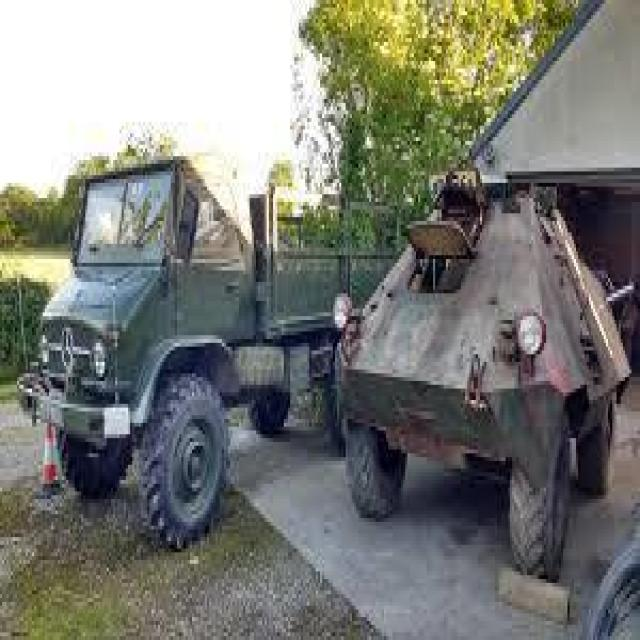Tanks: (358, 132, 634, 577)
